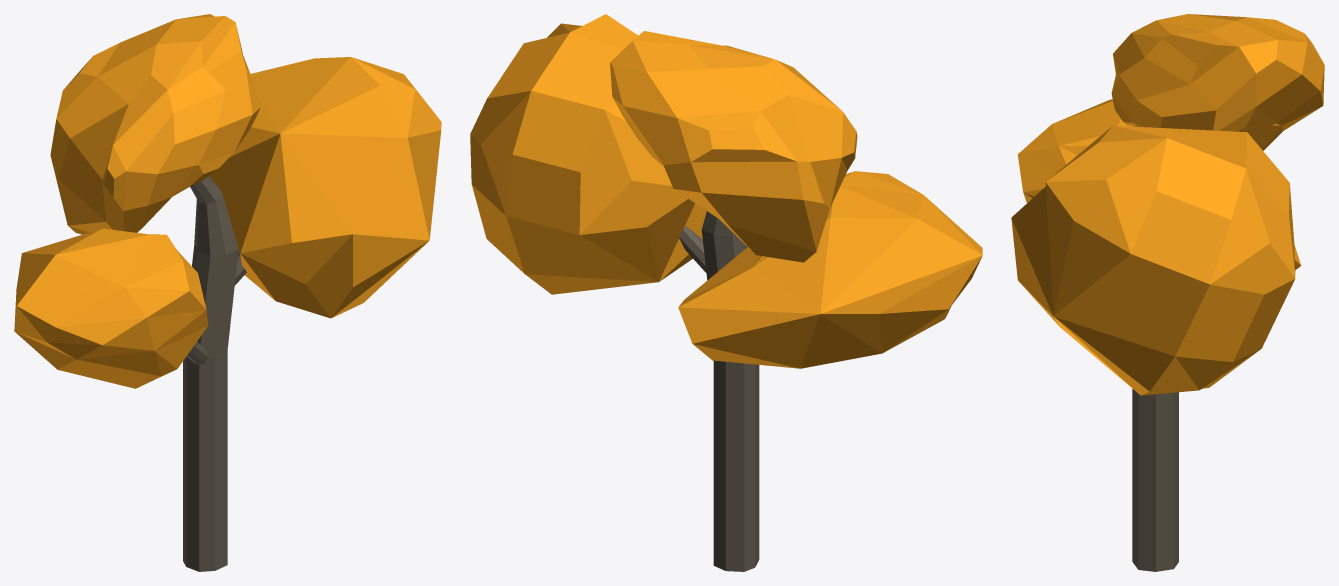
File: Apple_Tree_1D.fbx
3 views of the same model, side by side, from view 1: azimuth 30°, elevation 25°; view 2: azimuth 150°, elevation 25°; view 3: azimuth 270°, elevation 25° (orthographic). The views are drawn at different scales.
Visible parts, largest first — view 1: Apple_Tree_1D; view 2: Apple_Tree_1D; view 3: Apple_Tree_1D.
Part boxes in pixels (x1=…): Apple_Tree_1D: x1=14, y1=14, x2=441, y2=571; Apple_Tree_1D: x1=470, y1=14, x2=982, y2=571; Apple_Tree_1D: x1=1011, y1=14, x2=1324, y2=571.
Bounding box in the file's own units: 7.45 × 8.28 × 4.29.
